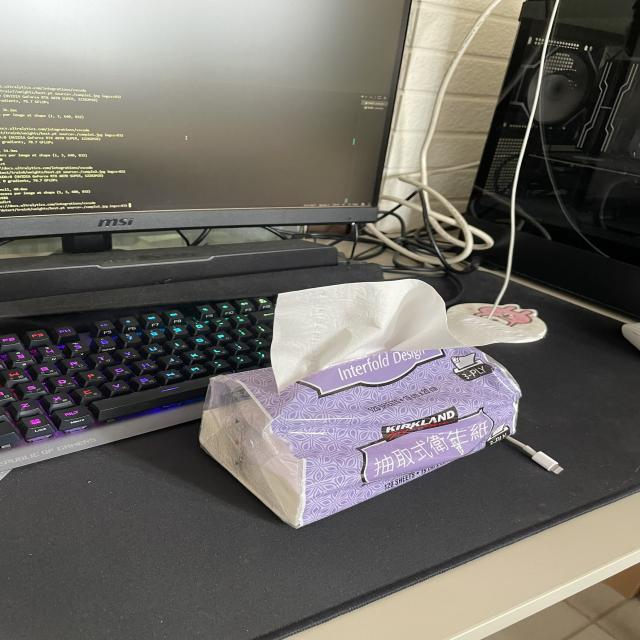tissue: (192, 273, 523, 532)
